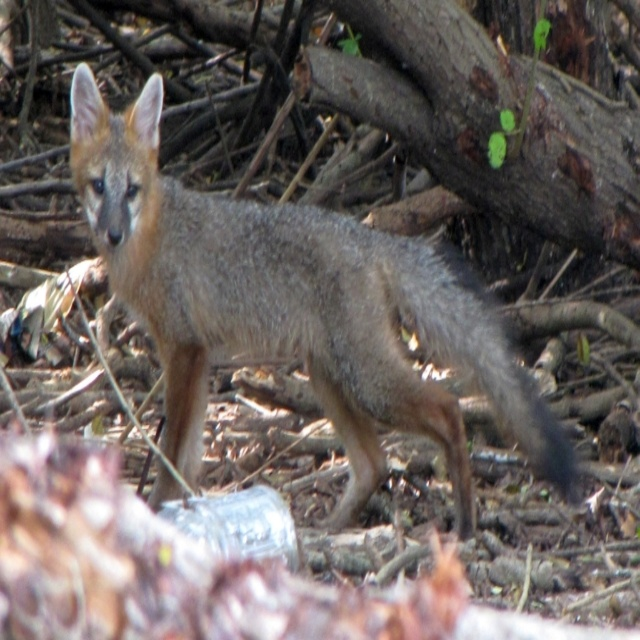Fox: (69, 61, 587, 545)
